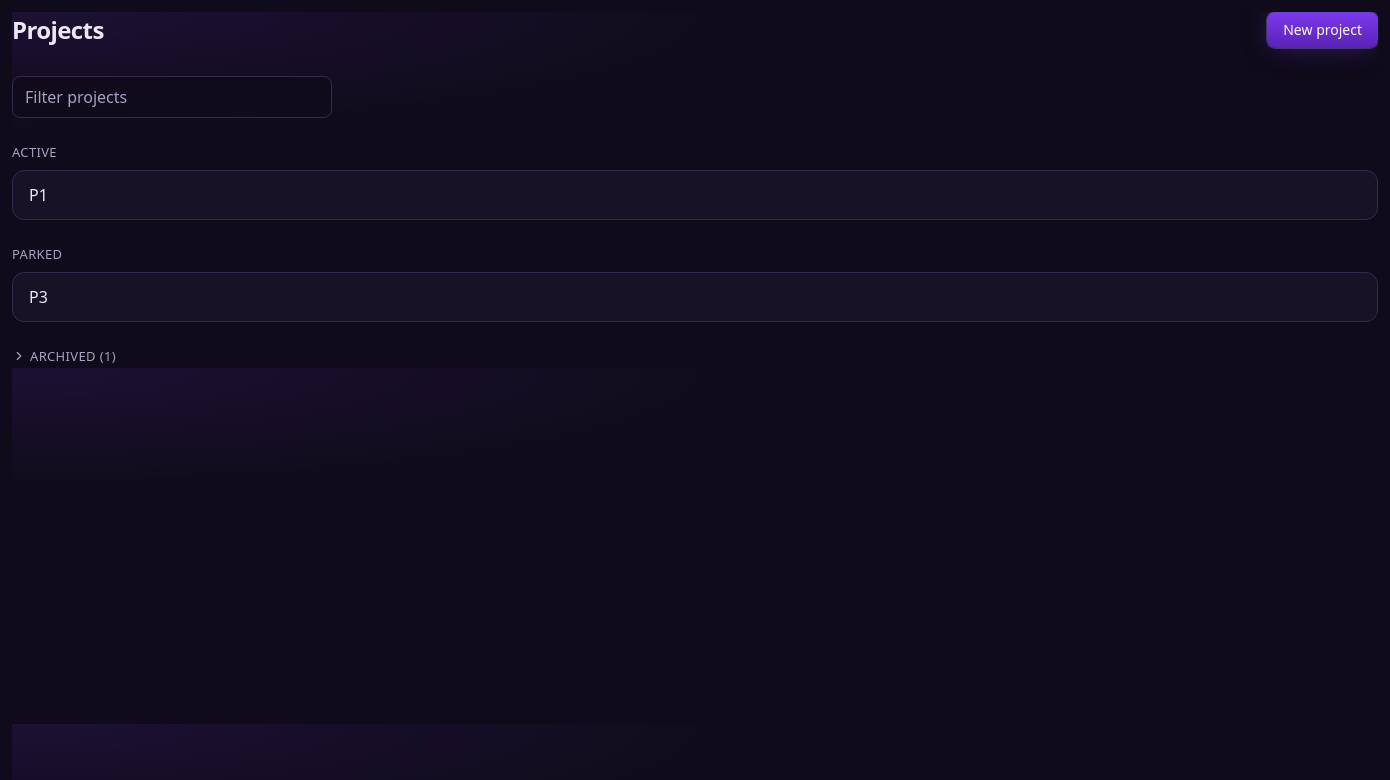
Projects screen › keeps the project archived and says so when restoring fails
This screenshot has width=1390, height=780.
Click the button "Archived (1)". click: [64, 356]
box: [12, 346, 116, 366]
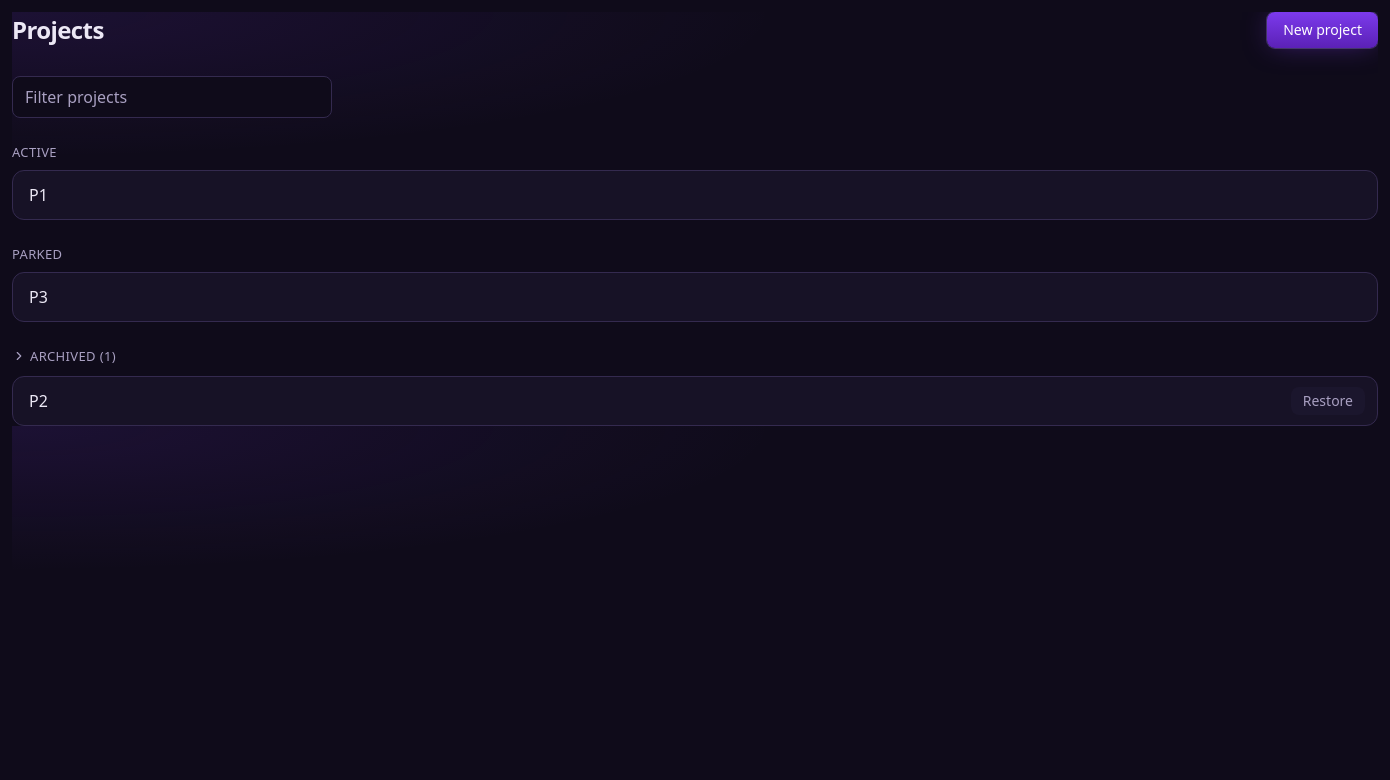
Click the button "Restore". click: [1328, 401]
box: [1291, 387, 1365, 415]
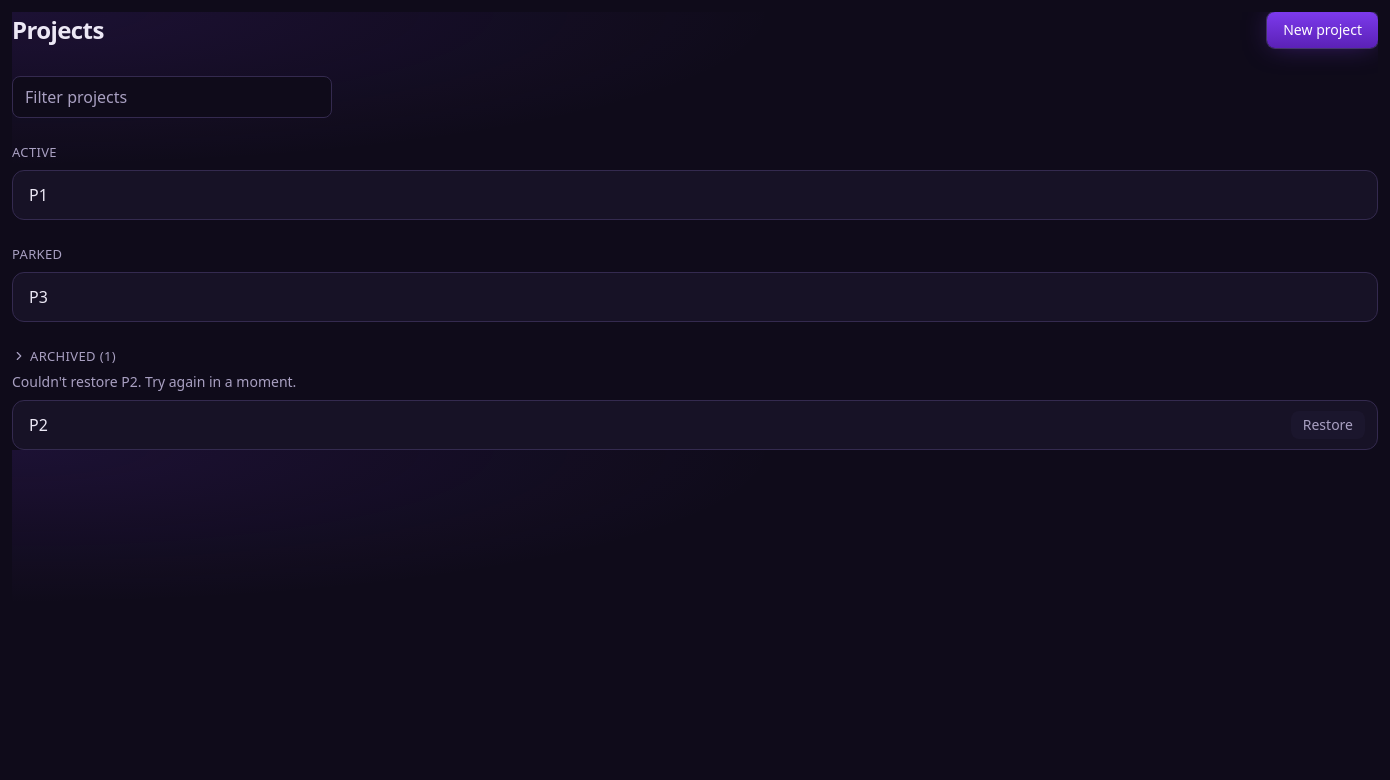
Expected: the text "Couldn't restore P2." is shown, [12, 372, 296, 391]
